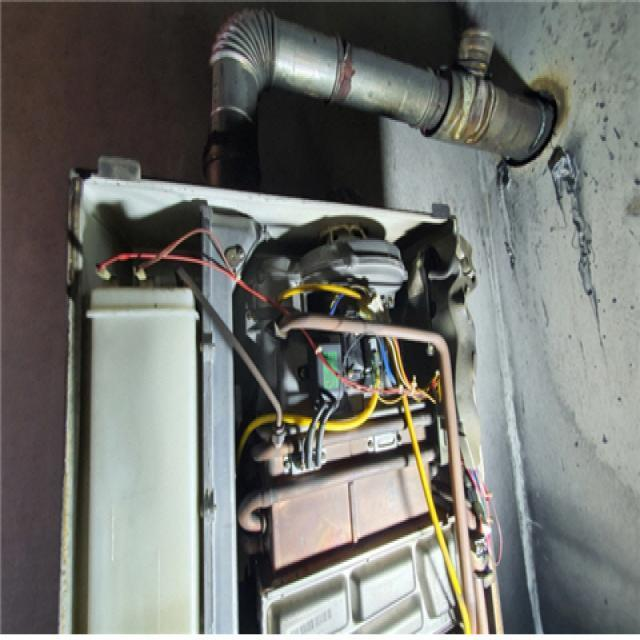Boiler: (33, 147, 527, 636)
